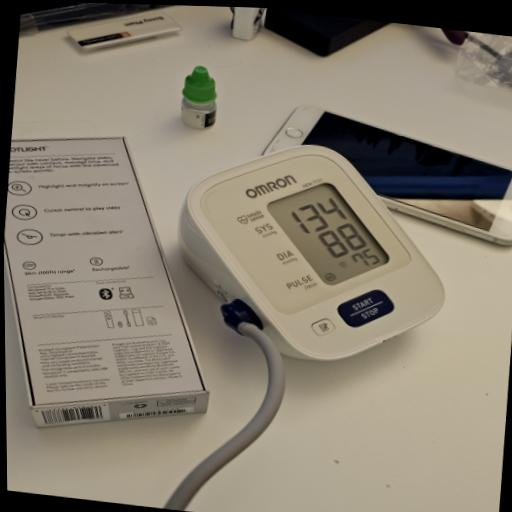lcd display: (257, 173, 399, 295)
